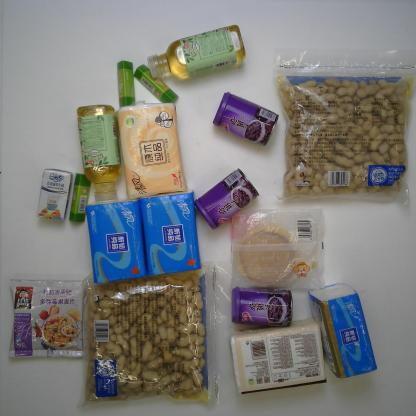Canned Food: (192, 167, 262, 233), (210, 89, 282, 148), (226, 282, 298, 330)
Dessert: (222, 200, 335, 297)
Dried Food: (269, 48, 415, 208), (78, 249, 222, 409)
Drink: (144, 22, 251, 84), (73, 101, 126, 207)
Instant Drink: (1, 270, 89, 362)
Milk: (34, 166, 75, 226)
Stationery: (132, 63, 180, 109), (113, 57, 141, 110), (68, 172, 92, 225)
Tissue: (230, 316, 333, 397), (112, 102, 190, 203), (306, 280, 381, 381), (140, 185, 206, 284), (84, 198, 149, 288)
